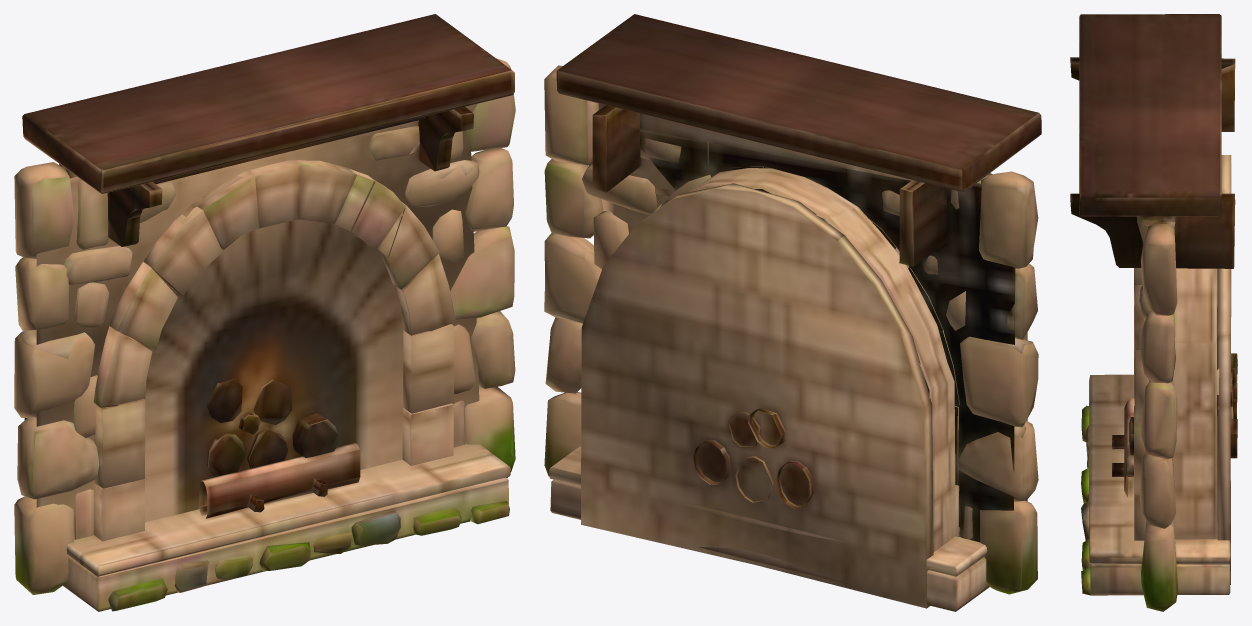
Rendered from fireplace.lod1.glb.
3 renders of one model, left to right at view 1: azimuth 30°, elevation 25°; view 2: azimuth 150°, elevation 25°; view 3: azimuth 270°, elevation 25°, orthographic. The views are drawn at different scales.
Bounding box in the file's own units: 1.8 × 1.6 × 0.5989.
1 material, 1 textured.
